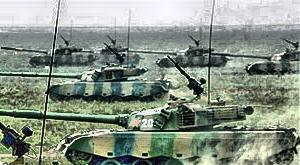tanks: (48, 98, 300, 165), (50, 65, 173, 102), (216, 41, 300, 75), (133, 36, 210, 68), (55, 37, 96, 68), (3, 48, 51, 68), (1, 137, 29, 165), (109, 37, 128, 67), (1, 110, 44, 121), (95, 47, 121, 65), (212, 51, 230, 68), (1, 73, 49, 78), (157, 58, 173, 68), (131, 55, 142, 67)
